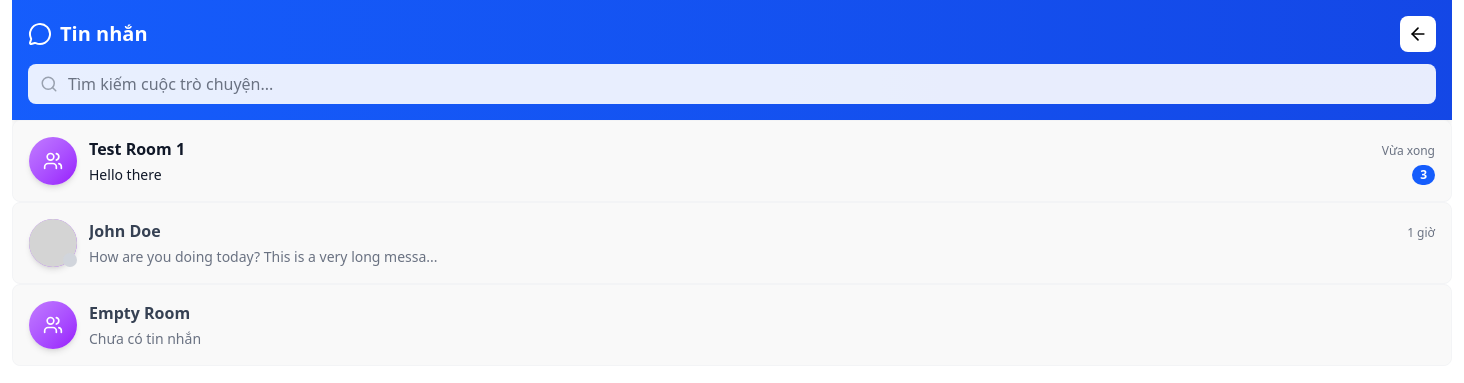
it: RoomList Component › Search Functionality › should filter rooms based on search query
Expected: the heading "Test Room 1" is shown, [89,137,185,161]
Type "John" into the field with placeholder "Tìm kiếm cuộc trò chuyện...". click: coordinates (732, 84)
box: [28,64,1436,104]
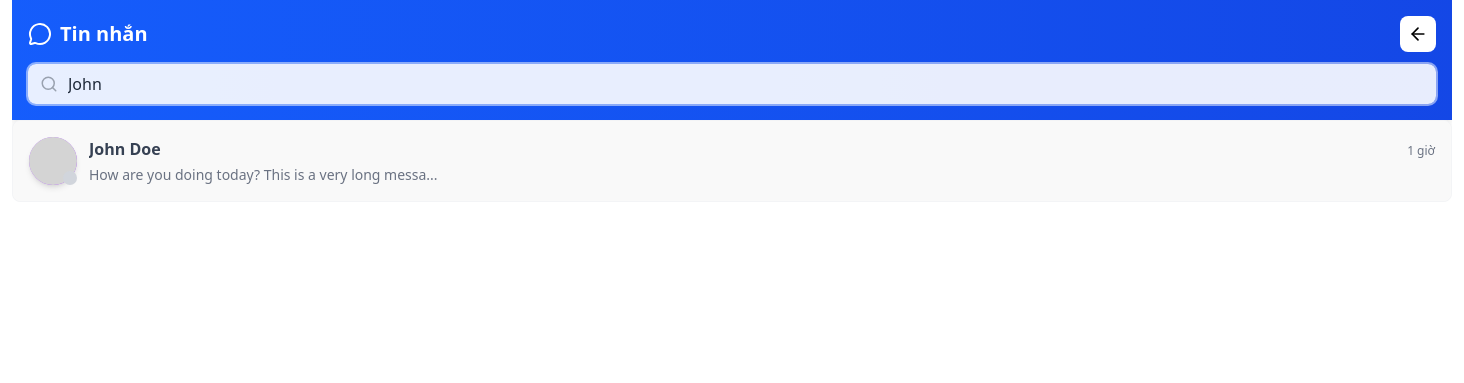
Expected: the heading "John Doe" is shown, [89,137,161,161]
Expected: the button "Test Room 1" is gone
